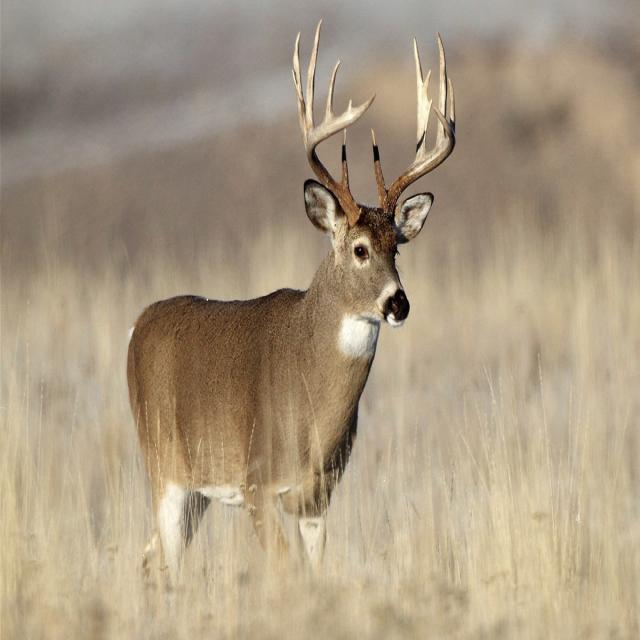deer: (127, 21, 455, 569)
